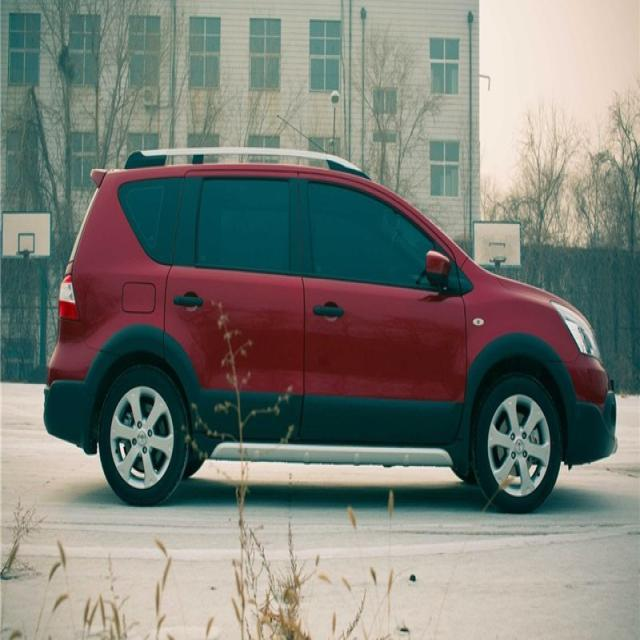back_right_side_light: (56, 261, 81, 321)
door: (159, 172, 311, 449)
front_bumper: (559, 358, 620, 466)
front_right_side_door: (292, 168, 470, 446)
front_right_side_light: (549, 294, 603, 368)
front_right_side_mirror: (426, 248, 451, 296)
rear_bumper: (42, 322, 112, 456)
wheel: (99, 364, 189, 499), (476, 376, 562, 504)
